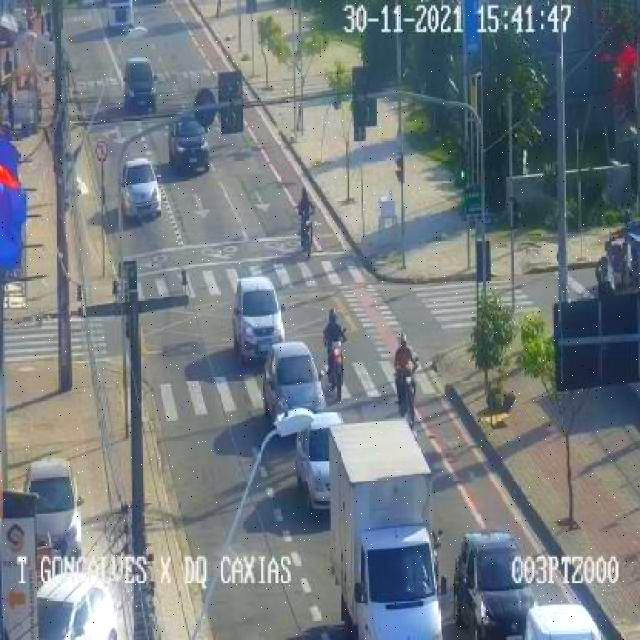car: (455, 532, 530, 640), (38, 572, 119, 640), (28, 459, 81, 556), (232, 276, 285, 361), (296, 412, 342, 509), (264, 342, 325, 414), (122, 159, 161, 219), (169, 118, 209, 172), (124, 58, 155, 113)
lorry: (330, 419, 440, 640)
motorcyclist: (322, 309, 346, 401), (394, 336, 418, 424), (298, 188, 314, 257)
road-signs: (218, 71, 244, 133)
traffic-lights: (476, 241, 491, 282)
